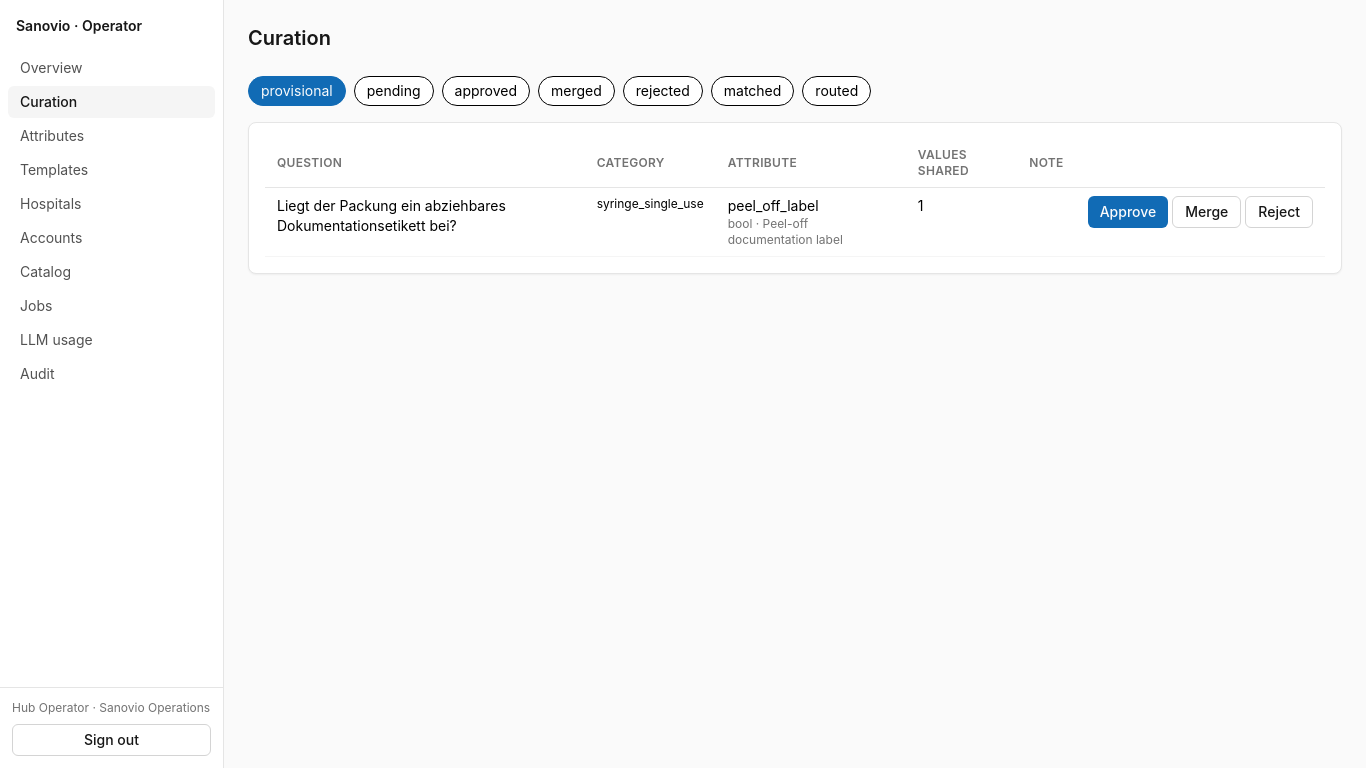
Scenario: a merge offers only attributes of the same type and shows why it was refused
Click the button "Merge".
click(1207, 212)  # box [1172,196,1241,228]
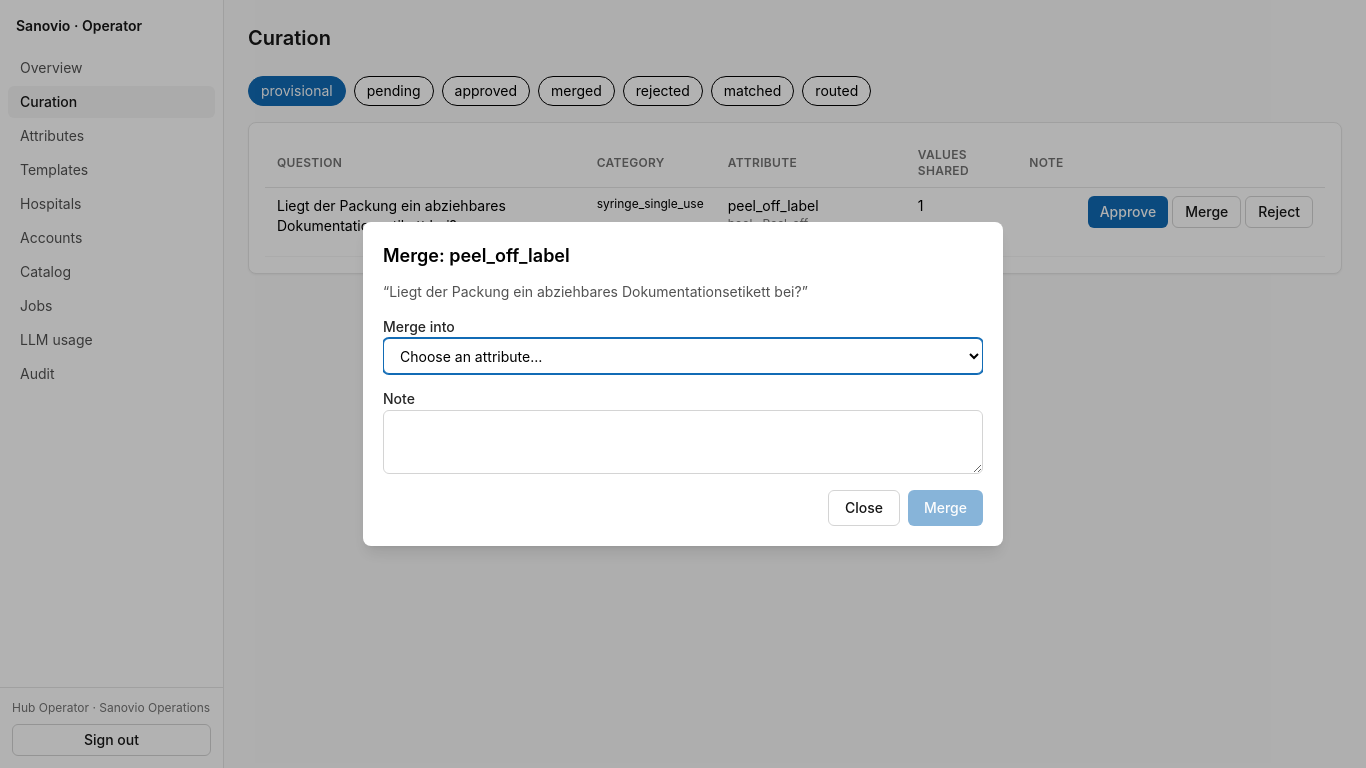
Select "latex_free · latex_free" in the dropdown labelled "Merge into" at (683, 356), box [383,338,983,374]
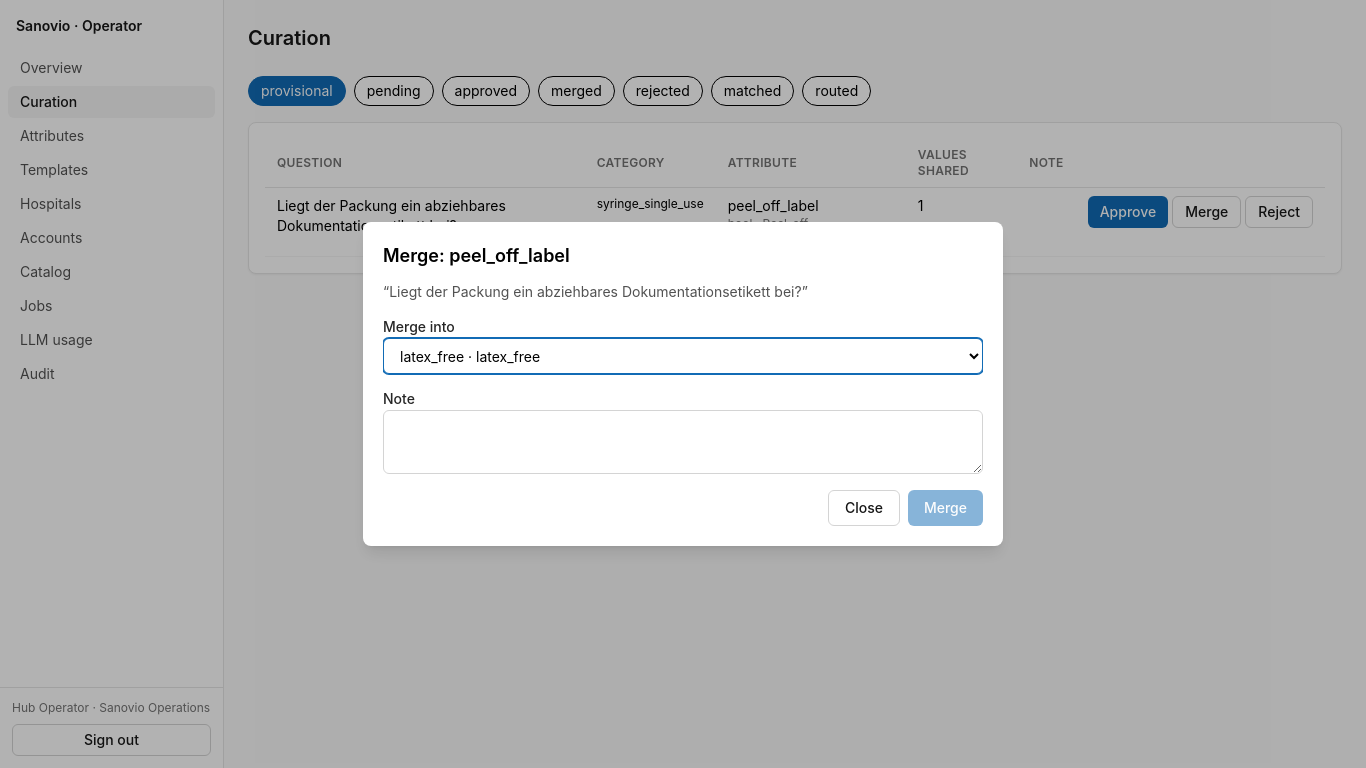
Type "asked the same" into the text box labelled "Note".
click(683, 442); type("asked the same")  # box [383,410,983,474]
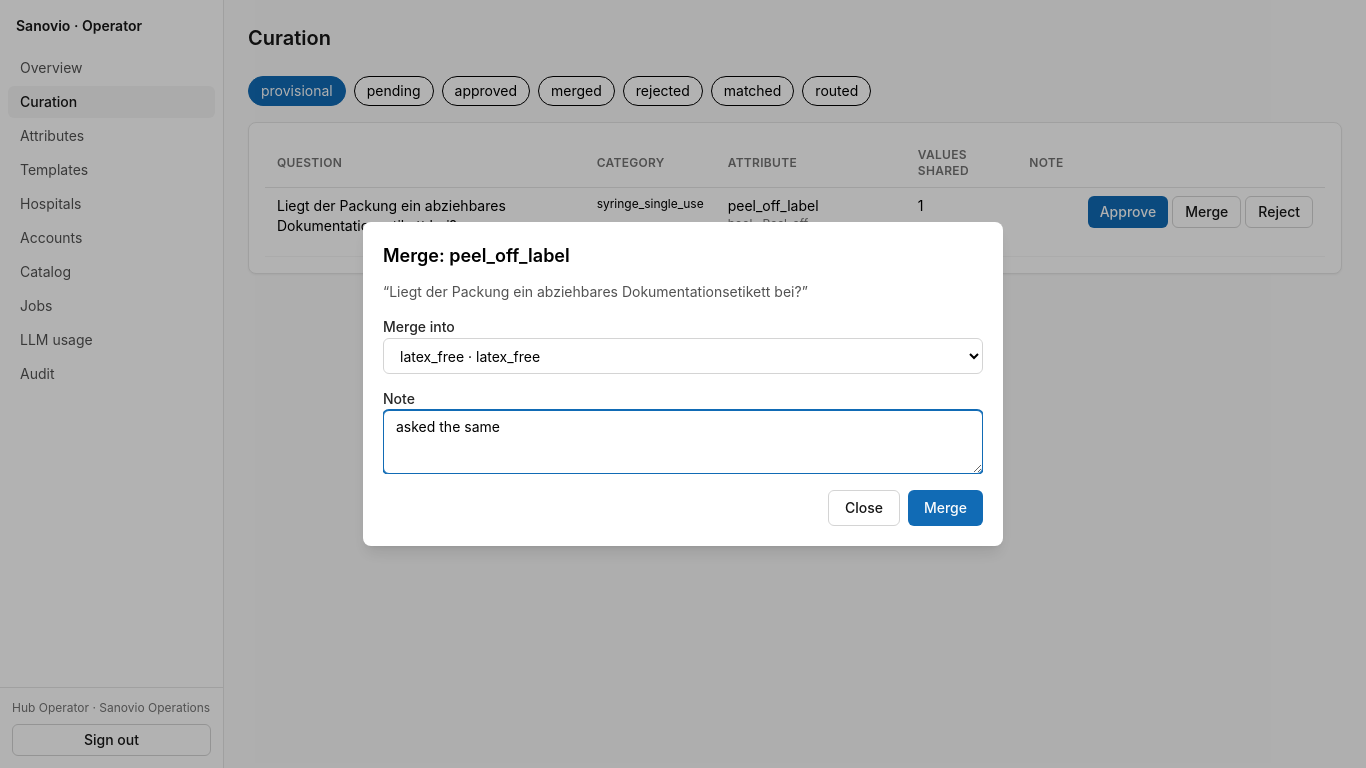
Click the button "Merge".
click(946, 508)  # box [908,490,983,526]
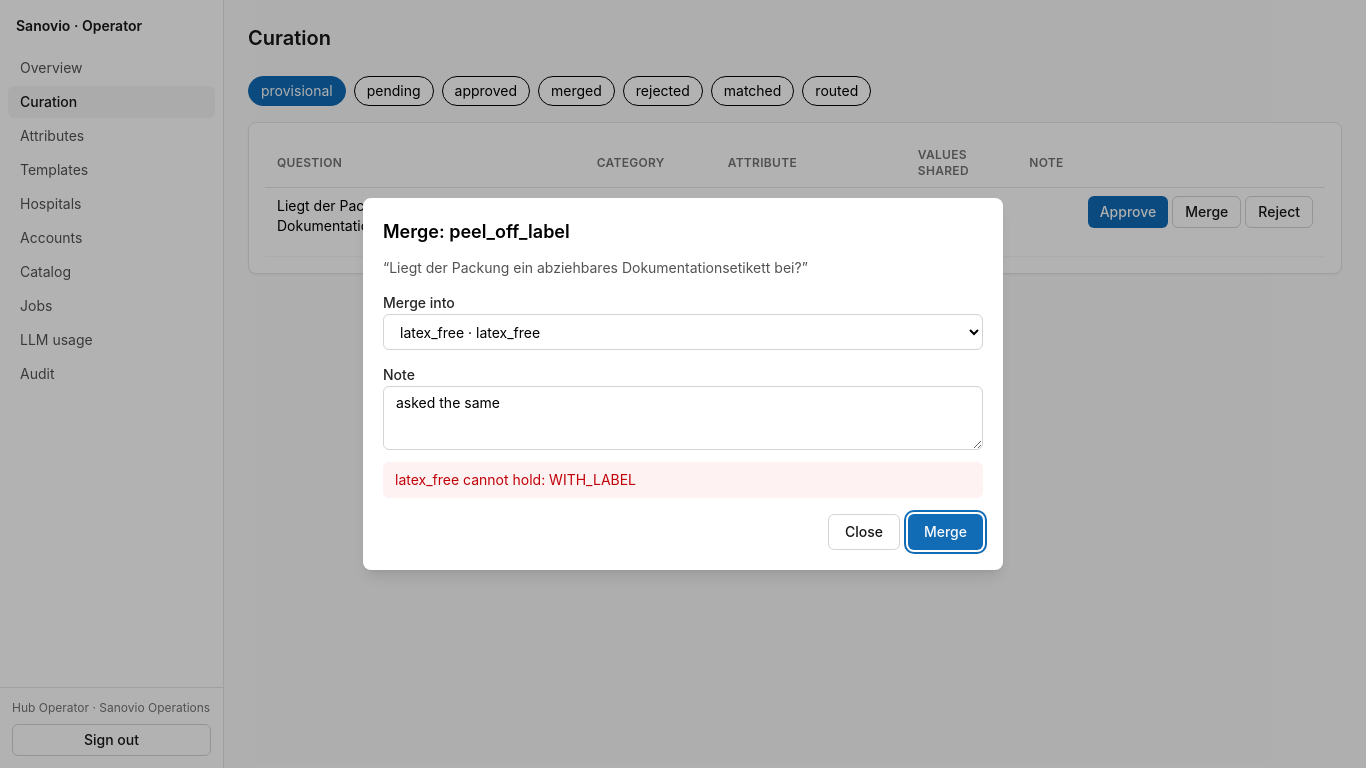
Expected: the message shows "latex_free cannot hold", [395,471,636,488]
